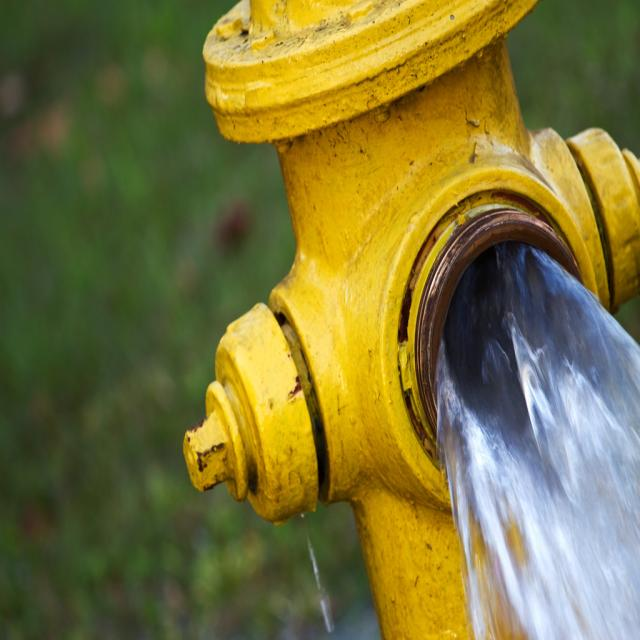fire_hydrant: (184, 0, 639, 639)
